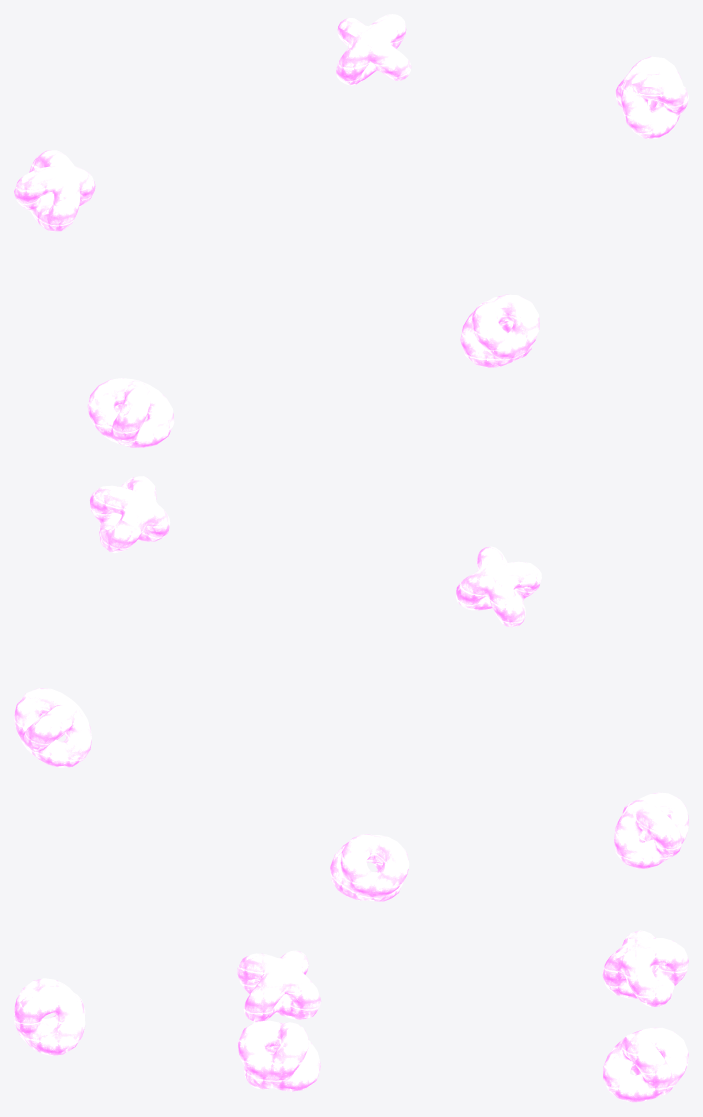
File: dna.glb
The picture shows the model from 3 angles, top to bottom: view 1: azimuth 30°, elevation 25°; view 2: azimuth 150°, elevation 25°; view 3: azimuth 270°, elevation 25°; orthographic projection. The views are drawn at different scales.
Parts seen in each view (by area): view 1: DNAORBS.001; view 2: DNAORBS.001; view 3: DNAORBS.001.
Boxes of the visible parts, <box> form: DNAORBS.001: <box>14,14,688,447</box>; DNAORBS.001: <box>14,476,688,901</box>; DNAORBS.001: <box>14,930,688,1102</box>.
Bounding box in the file's own units: 70.69 × 28.74 × 67.73.
